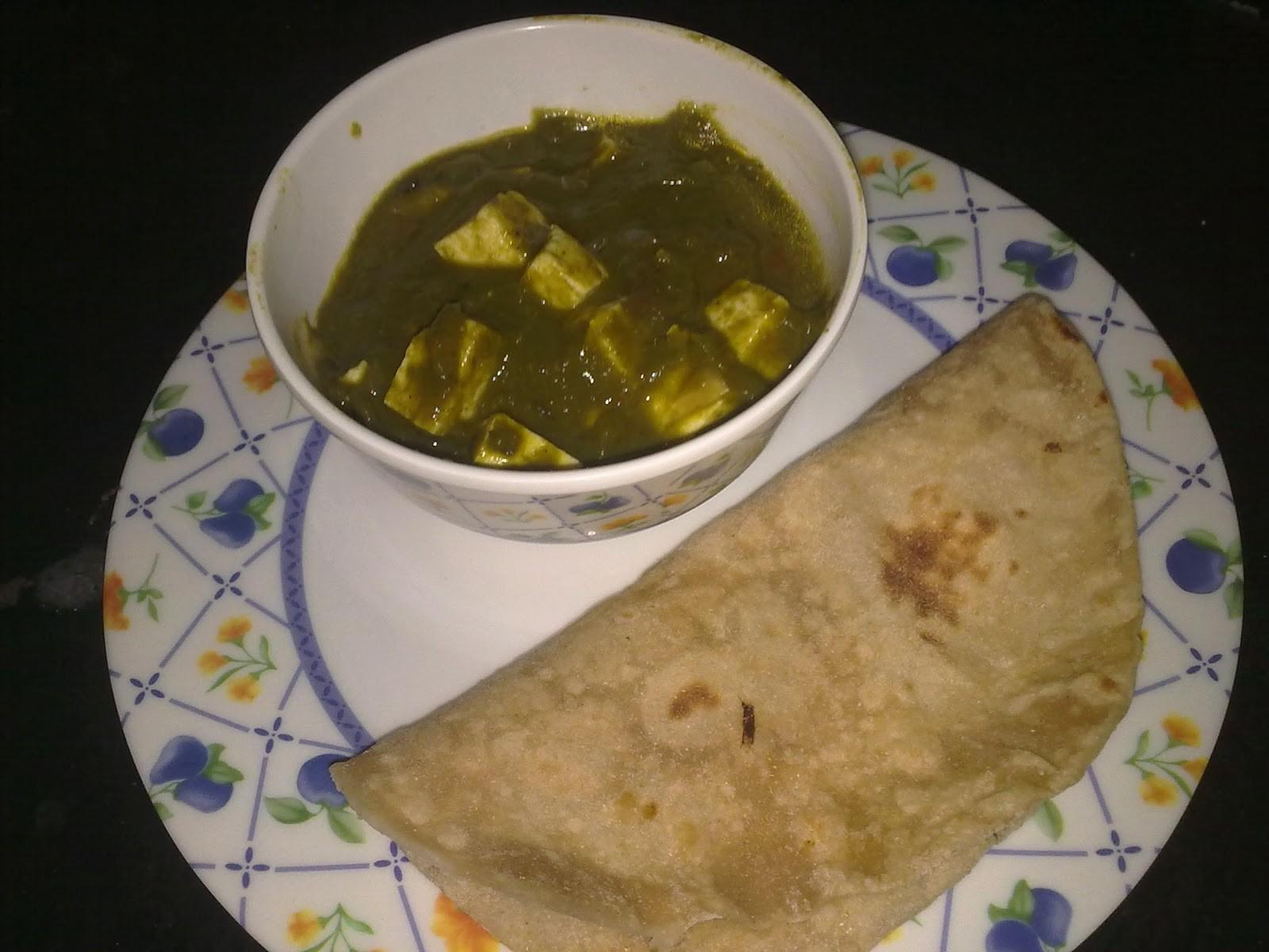PalakPaneer: (313, 79, 831, 468)
